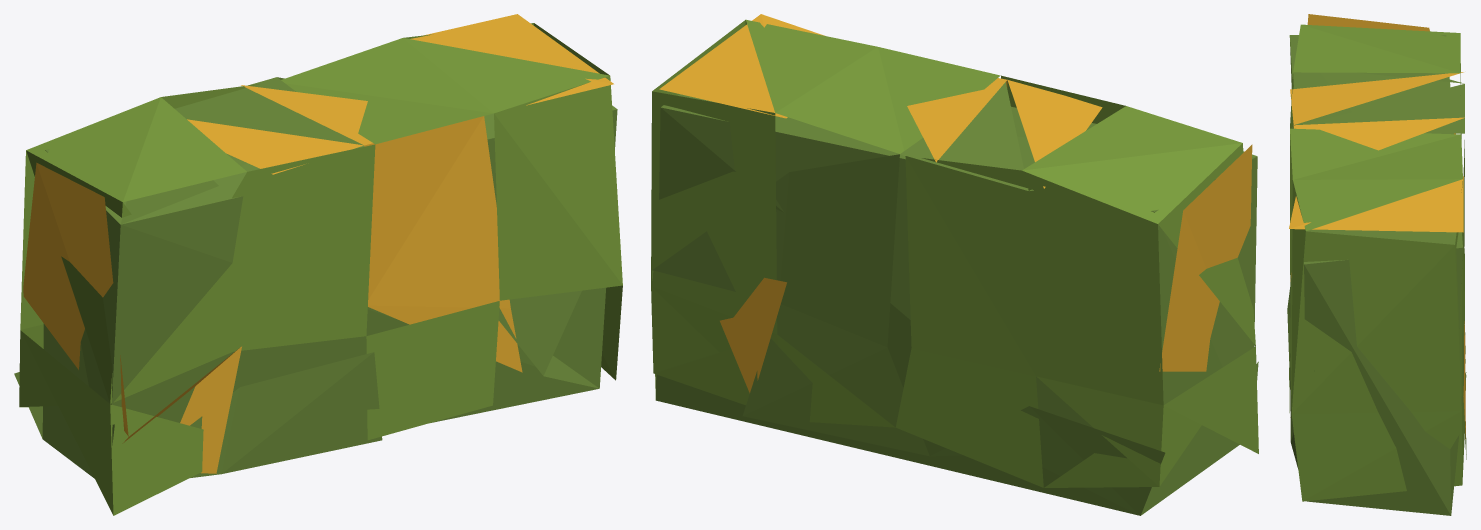
Rendered from prop.hedge.lod2.glb.
3 renders of one model, left to right at view 1: azimuth 30°, elevation 25°; view 2: azimuth 150°, elevation 25°; view 3: azimuth 270°, elevation 25°, orthographic. The views are drawn at different scales.
Size of the model in its own units: 2.48 by 1.48 by 0.8472.
